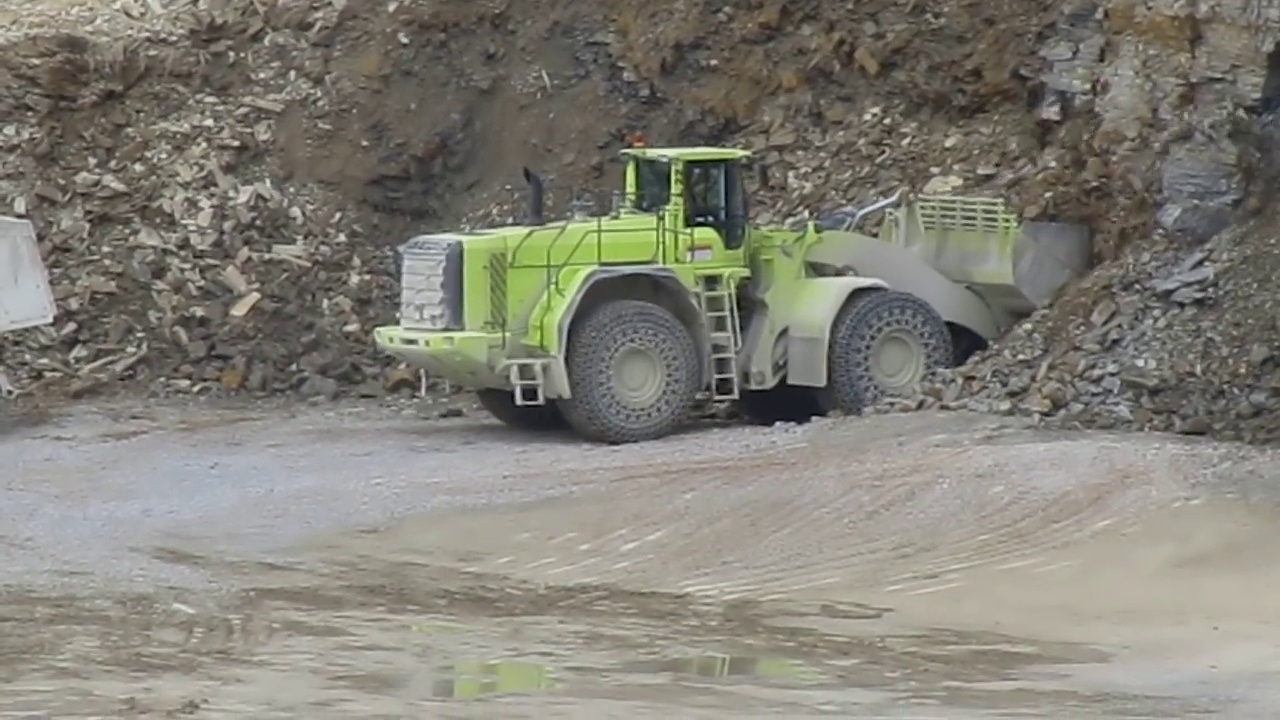wheel loader: (374, 128, 1099, 446)
